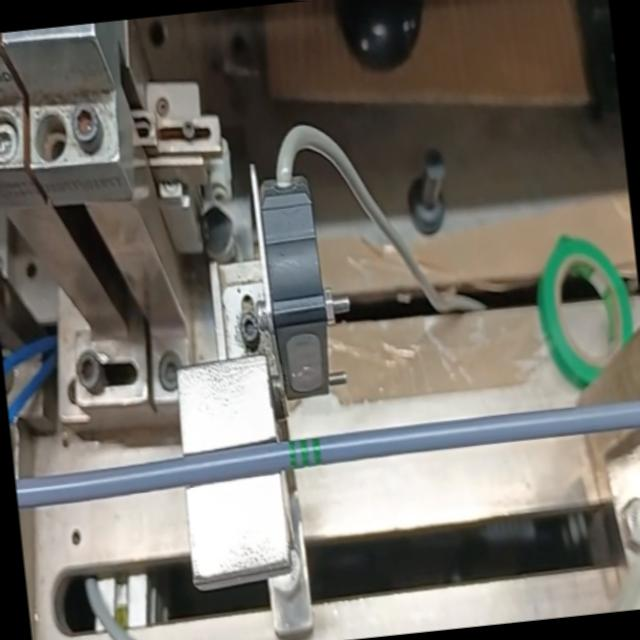green: (288, 435, 322, 470)
